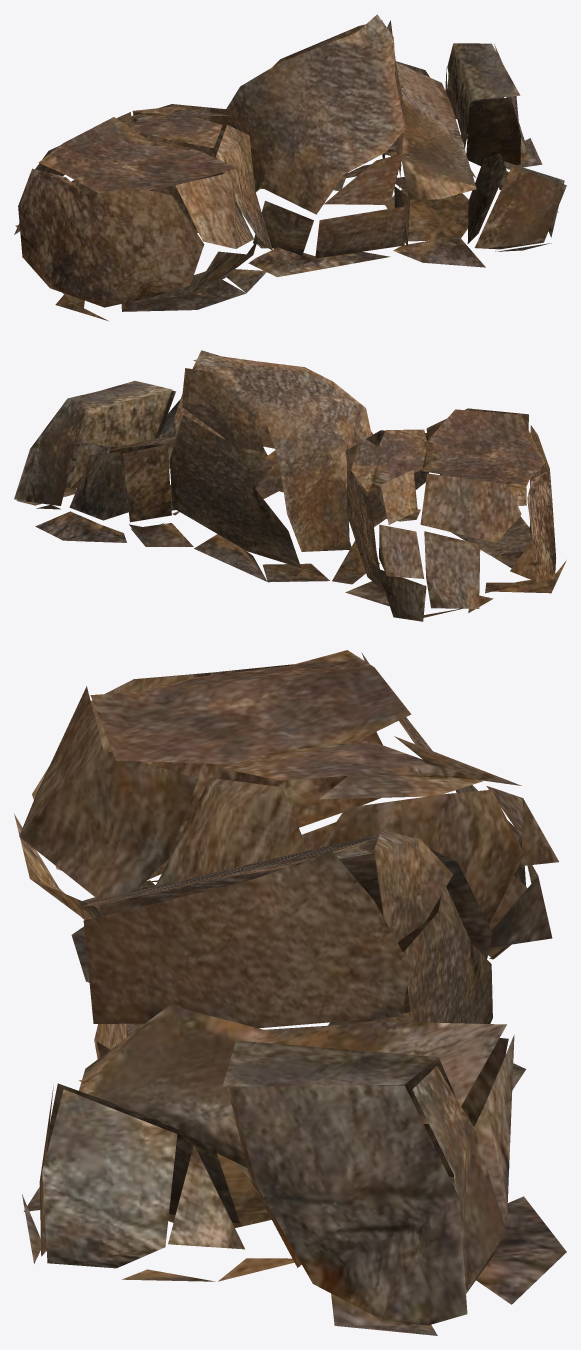
The model's file is namaqualand_boulder_02.glb.
3 renders of one model, top to bottom at view 1: azimuth 30°, elevation 25°; view 2: azimuth 150°, elevation 25°; view 3: azimuth 270°, elevation 25°, orthographic. The views are drawn at different scales.
Parts seen in each view (by area): view 1: boulder_02; view 2: boulder_02; view 3: boulder_02.
Part boxes in pixels (x1,y1,x2,y2): boulder_02: (14, 14, 566, 320); boulder_02: (14, 350, 566, 621); boulder_02: (14, 650, 566, 1335).
Size of the model in its own units: 2.49 by 0.8502 by 1.22.
Materials: 1 (1 with a texture image).
